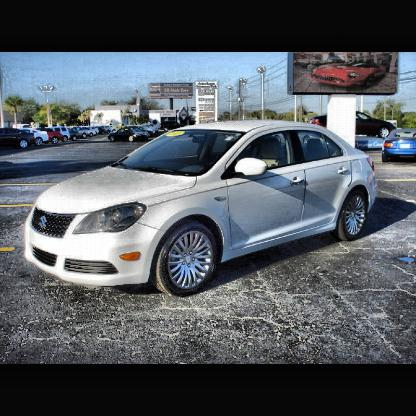Suzuki Kizashi Sedan 2012: (23, 115, 386, 301)
